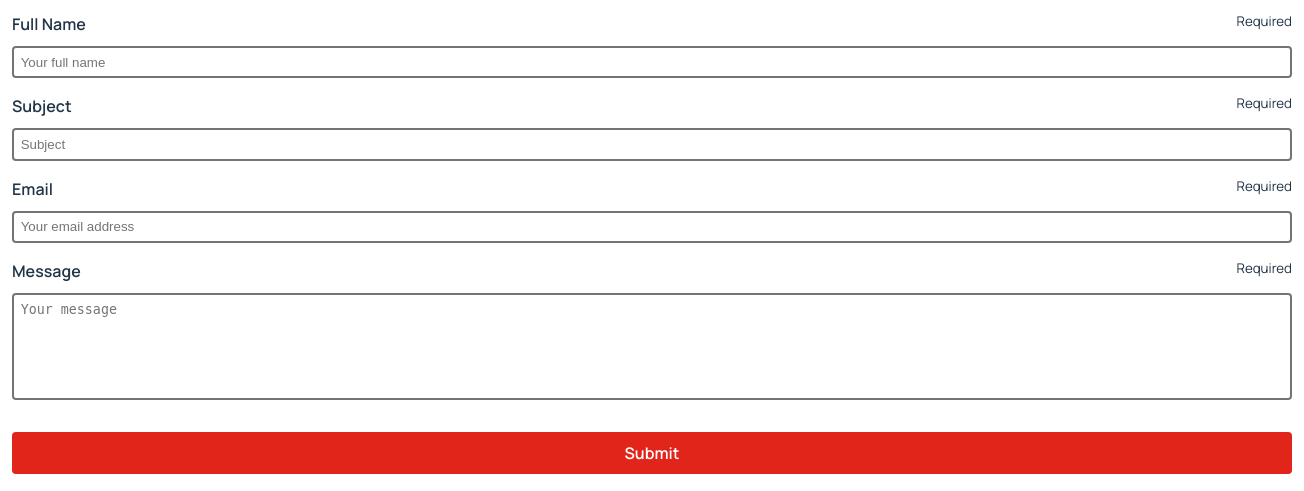
Test case: ContactForm › should display matching error when inputs are invalid
Click the button "Submit" at coordinates (652, 453), box [12,432,1292,474]
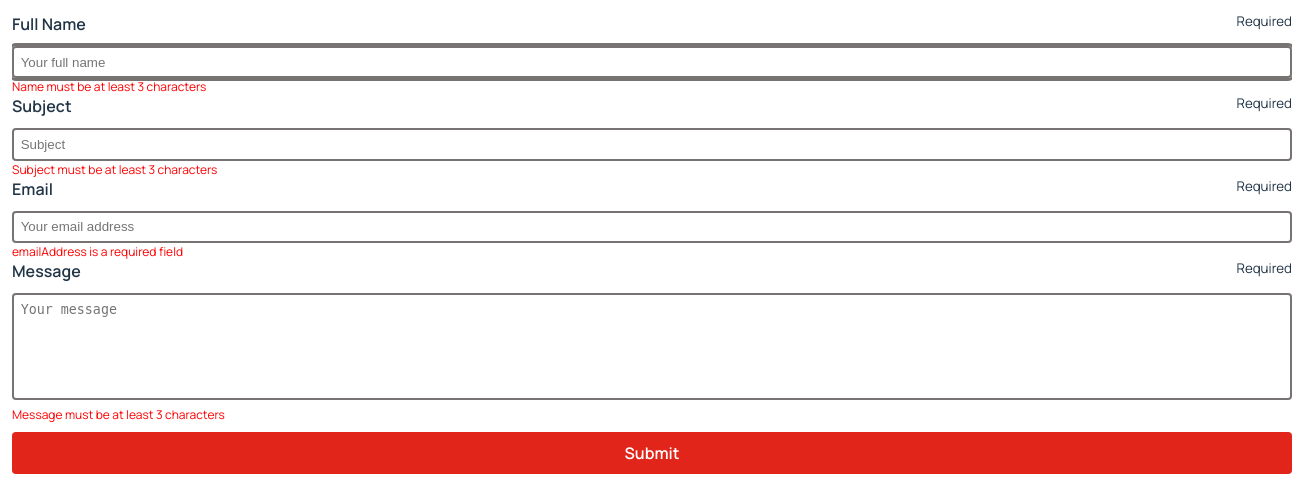
Check: the text "Name must be at least 3 characters" is shown, box [12,78,206,96]
Check: the text "Subject must be at least 3 characters" is shown, box [12,161,217,179]
Check: the text "emailAddress is a required field" is shown, box [12,243,183,261]
Type "OlaNormannatstud.noroff.no" into the field labelled "Email" at coordinates (652, 227), box [12,211,1292,243]
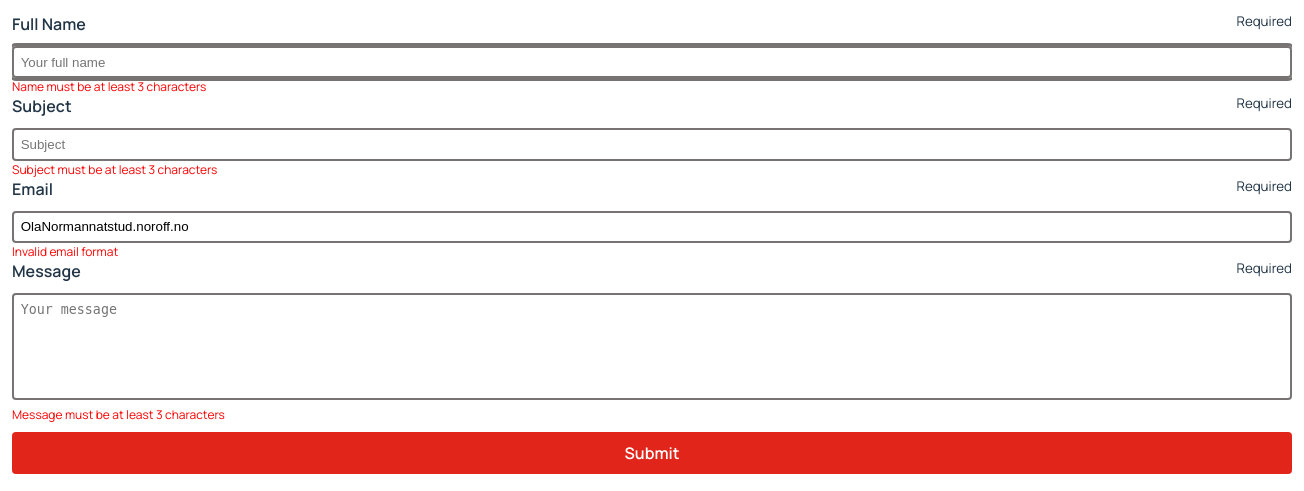
Check: the text "Invalid email format" is shown, box [12,243,118,261]
